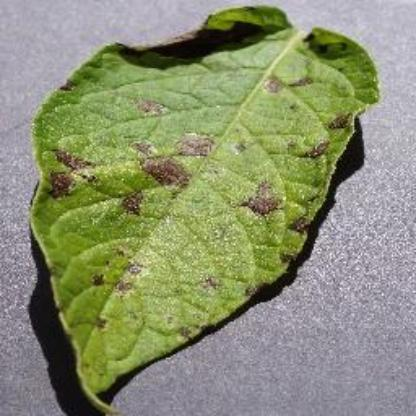Early-Blight: (31, 6, 388, 402)
